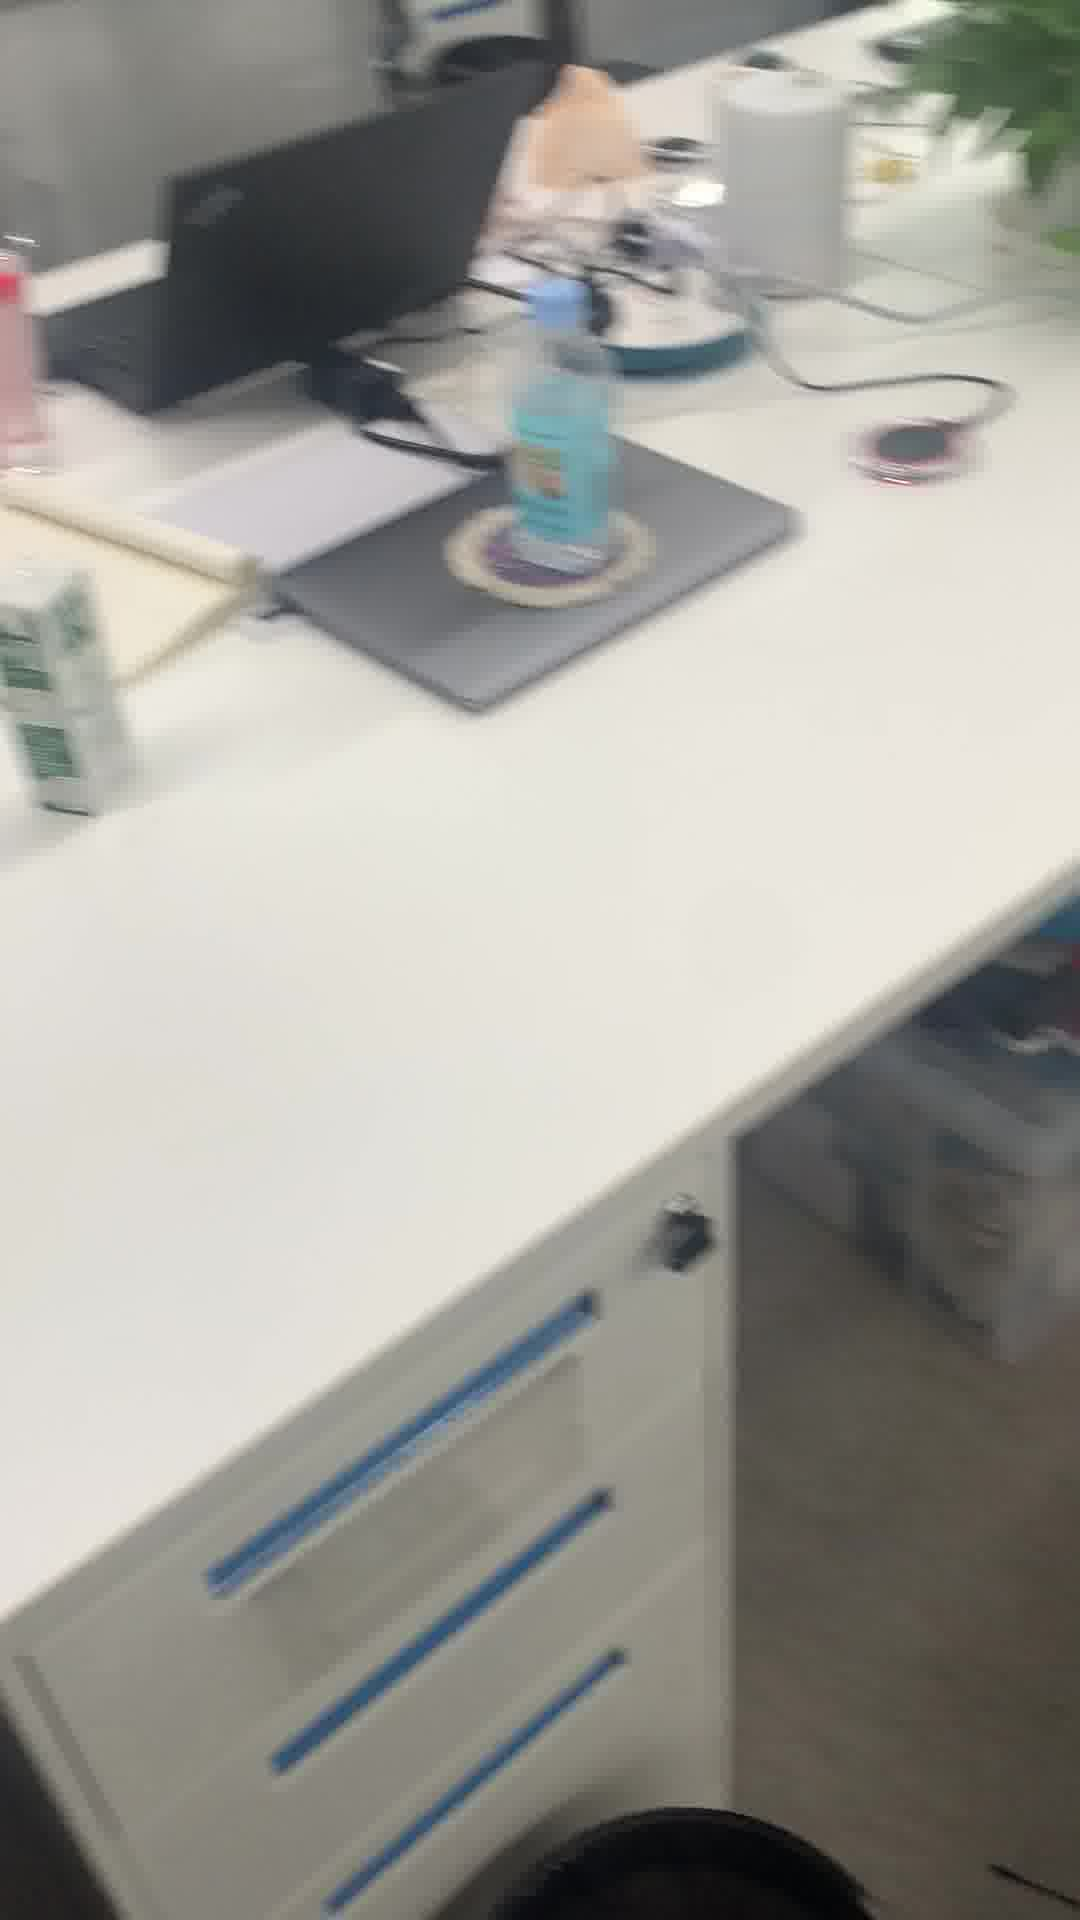水瓶: (501, 278, 632, 572)
